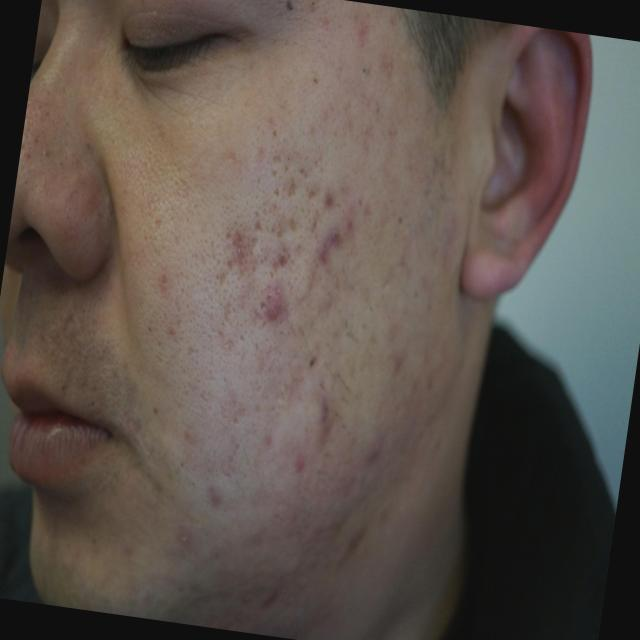blackhead: (42, 149, 49, 157), (398, 216, 403, 224), (310, 361, 314, 367), (154, 408, 158, 414), (300, 168, 304, 174), (414, 292, 418, 298), (362, 68, 367, 72), (61, 386, 66, 390), (148, 327, 152, 332), (282, 248, 286, 252), (92, 401, 95, 406), (312, 1, 315, 6), (180, 462, 183, 466), (222, 322, 224, 325), (288, 158, 290, 160), (94, 540, 95, 544), (193, 483, 195, 485), (98, 541, 99, 542)
nodule: (261, 287, 286, 323)
